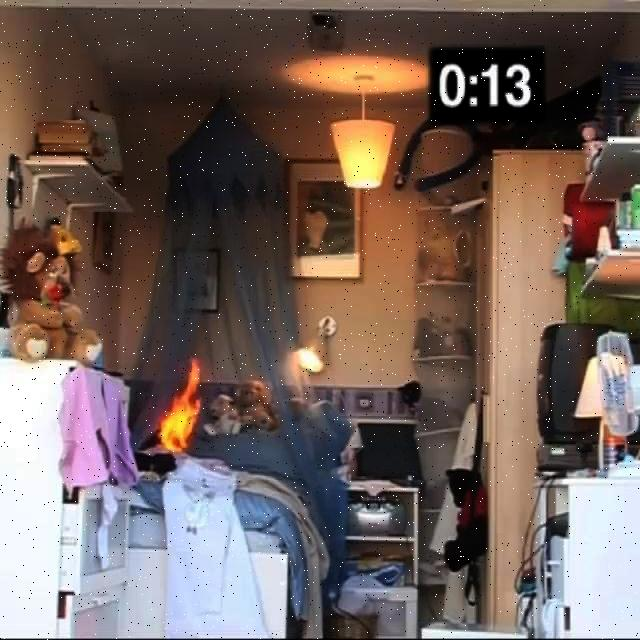fire: (157, 353, 216, 455)
light: (313, 54, 427, 198)
